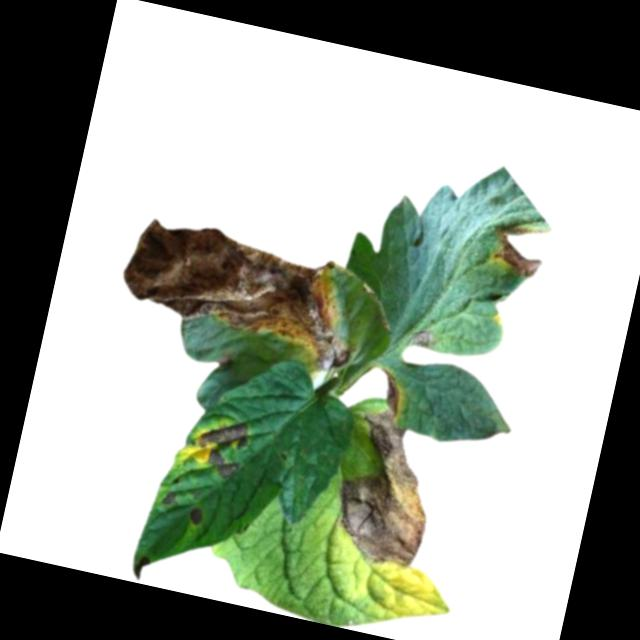Early_blight: (112, 209, 371, 376), (334, 407, 448, 573), (481, 214, 555, 278), (193, 412, 254, 482), (374, 367, 405, 413), (129, 550, 152, 583), (407, 324, 436, 350), (212, 350, 234, 375), (159, 487, 178, 512), (188, 505, 206, 529)
